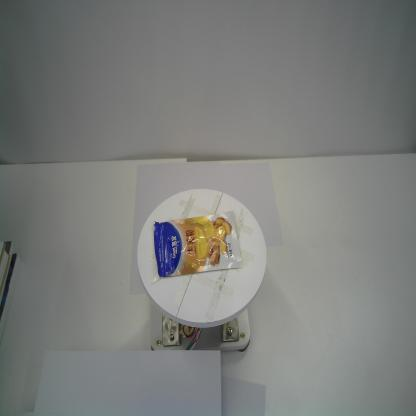Seasoner: (153, 210, 243, 278)
